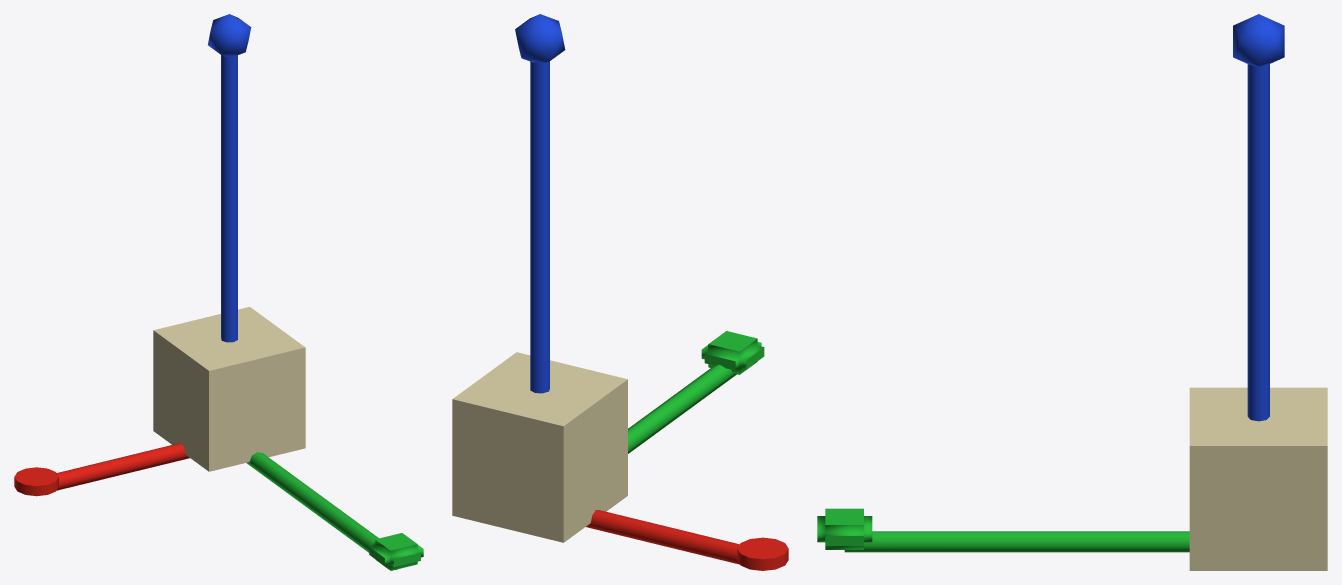
Rendered from axis_probe.fbx.
The picture shows the model from 3 angles, left to right: view 1: azimuth 30°, elevation 25°; view 2: azimuth 150°, elevation 25°; view 3: azimuth 270°, elevation 25°; orthographic projection. The views are drawn at different scales.
Visible parts, largest first — view 1: one_metre_cube.001, Z_UP_BLUE.001, Y_NORTH_GREEN.001, X_EAST_RED.001, Y_end_square.001, Z_end_ball.001, X_end_two_discs.001; view 2: one_metre_cube.001, Z_UP_BLUE.001, X_EAST_RED.001, Y_NORTH_GREEN.001, Y_end_square.001, Z_end_ball.001, X_end_two_discs.001; view 3: one_metre_cube.001, Z_UP_BLUE.001, Y_NORTH_GREEN.001, Z_end_ball.001, Y_end_square.001.
Part boxes in pixels (x1,y1,x2,y2): one_metre_cube.001: [153, 307, 305, 471]; Z_UP_BLUE.001: [221, 55, 237, 342]; Y_NORTH_GREEN.001: [246, 452, 396, 569]; X_EAST_RED.001: [57, 443, 189, 490]; Y_end_square.001: [369, 533, 423, 570]; Z_end_ball.001: [208, 14, 251, 56]; X_end_two_discs.001: [14, 467, 58, 496]; one_metre_cube.001: [452, 352, 627, 542]; Z_UP_BLUE.001: [530, 61, 549, 393]; X_EAST_RED.001: [586, 510, 739, 564]; Y_NORTH_GREEN.001: [628, 364, 736, 453]; Y_end_square.001: [701, 331, 764, 374]; Z_end_ball.001: [515, 14, 565, 63]; X_end_two_discs.001: [737, 537, 788, 570]; one_metre_cube.001: [1189, 387, 1327, 570]; Z_UP_BLUE.001: [1247, 64, 1269, 421]; Y_NORTH_GREEN.001: [844, 531, 1189, 552]; Z_end_ball.001: [1233, 14, 1284, 67]; Y_end_square.001: [817, 508, 872, 549].
Size of the model in its own units: 2.7 by 4.3 by 3.7.
